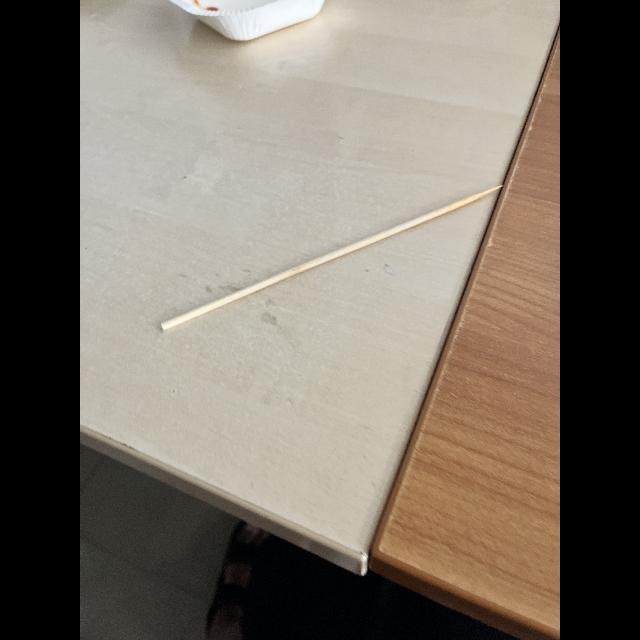stick: (145, 161, 509, 355)
